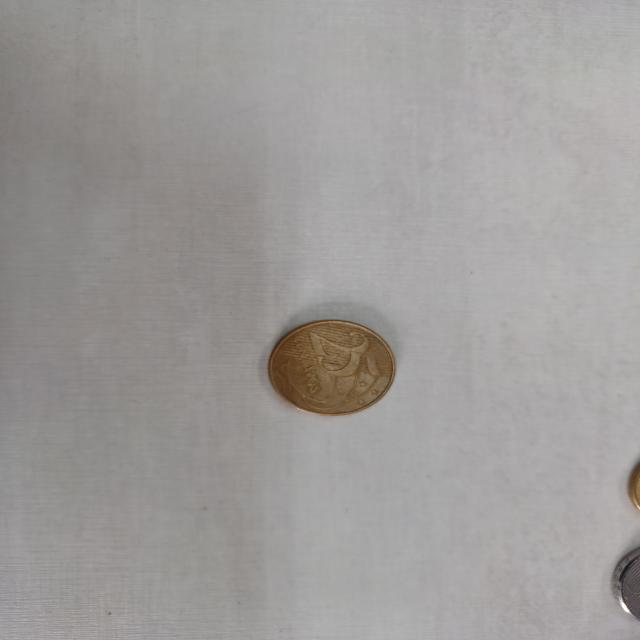25 cents: (266, 317, 400, 417)
